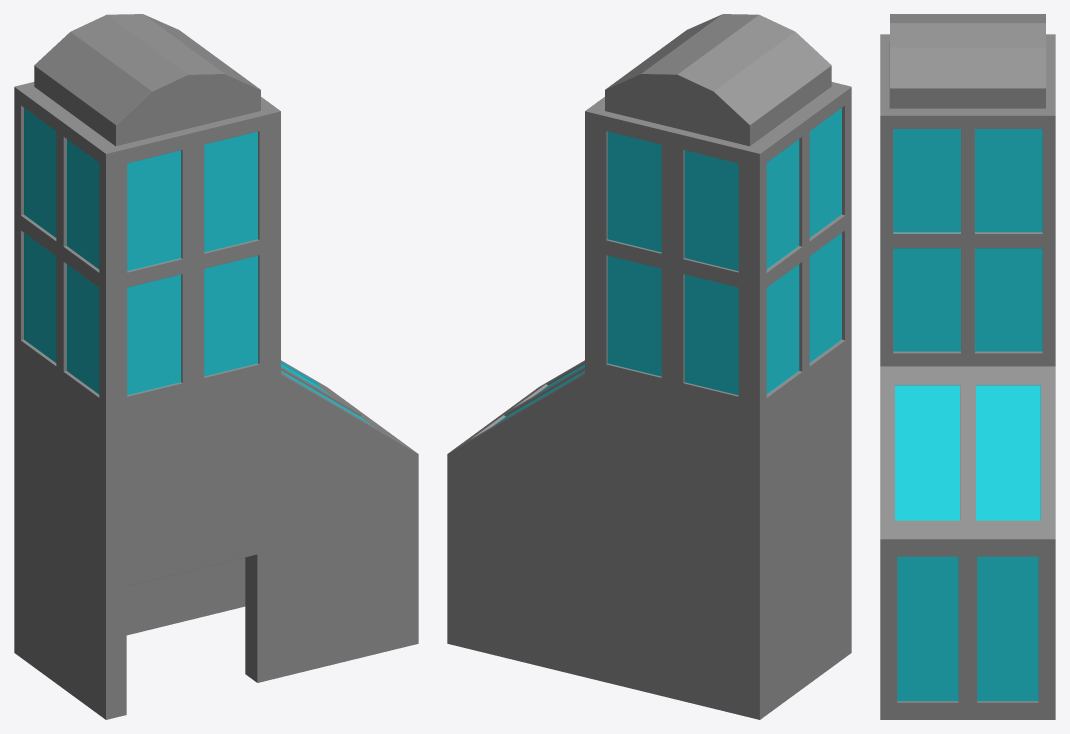
The model's file is Residential_Tower_09.fbx.
The picture shows the model from 3 angles, left to right: view 1: azimuth 30°, elevation 25°; view 2: azimuth 150°, elevation 25°; view 3: azimuth 270°, elevation 25°; orthographic projection. The views are drawn at different scales.
Parts seen in each view (by area): view 1: Residential_Tower; view 2: Residential_Tower; view 3: Residential_Tower.
Boxes of the visible parts, bbox=[...] form: Residential_Tower: bbox=[14, 14, 418, 719]; Residential_Tower: bbox=[447, 14, 851, 719]; Residential_Tower: bbox=[880, 14, 1055, 719].
Size of the model in its own units: 1761 by 3337 by 895.
